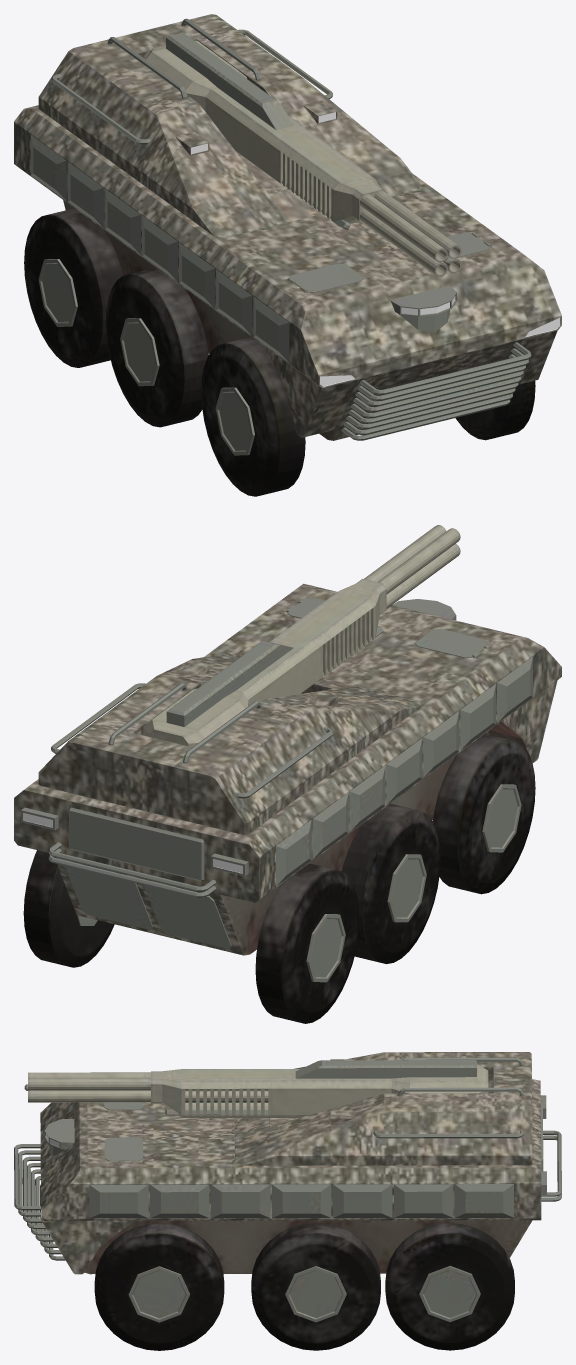
File: artillerie_ares.glb
3 renders of one model, top to bottom at view 1: azimuth 30°, elevation 25°; view 2: azimuth 150°, elevation 25°; view 3: azimuth 270°, elevation 25°, orthographic. The views are drawn at different scales.
Visible parts, largest first — view 1: Sphere, Cannon, wheel2, wheel1, wheel3, wheel4; view 2: Sphere, Cannon, wheel3, wheel1, wheel2, wheel6; view 3: Sphere, Cannon, wheel4, wheel6, wheel5.
Boxes of the visible parts, left/top/right/bottom form: Sphere: left=14, top=14, right=561, bottom=440; Cannon: left=145, top=32, right=461, bottom=276; wheel2: left=105, top=267, right=208, bottom=427; wheel1: left=201, top=337, right=305, bottom=496; wheel3: left=24, top=208, right=123, bottom=367; wheel4: left=455, top=380, right=535, bottom=440; Sphere: left=14, top=583, right=561, bottom=955; Cannon: left=143, top=525, right=460, bottom=747; wheel3: left=255, top=863, right=359, bottom=1023; wheel1: left=433, top=734, right=535, bottom=894; wheel2: left=342, top=803, right=440, bottom=963; wheel6: left=23, top=850, right=114, bottom=967; Sphere: left=14, top=1052, right=561, bottom=1274; Cannon: left=24, top=1060, right=488, bottom=1117; wheel4: left=94, top=1223, right=224, bottom=1350; wheel6: left=385, top=1222, right=514, bottom=1350; wheel5: left=251, top=1223, right=380, bottom=1350.
Size of the model in its own units: 0.4127 by 0.4172 by 0.8771.
4 materials, 1 textured.
